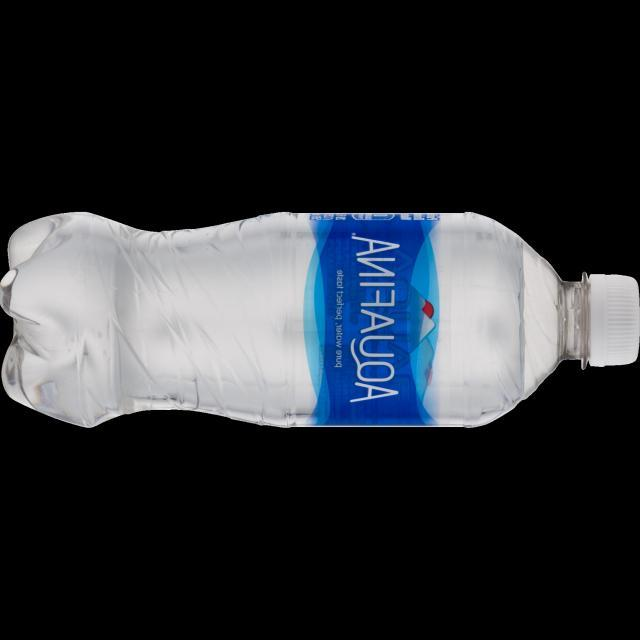plastic: (1, 200, 640, 440)
